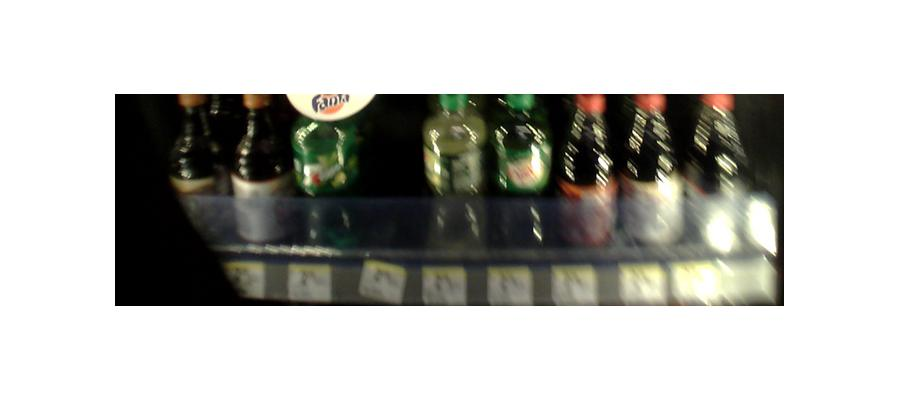bottle: (289, 91, 358, 248), (688, 91, 749, 259), (424, 92, 486, 255), (618, 93, 681, 251), (170, 90, 230, 255), (233, 86, 290, 250), (490, 92, 551, 244), (556, 94, 613, 248)
